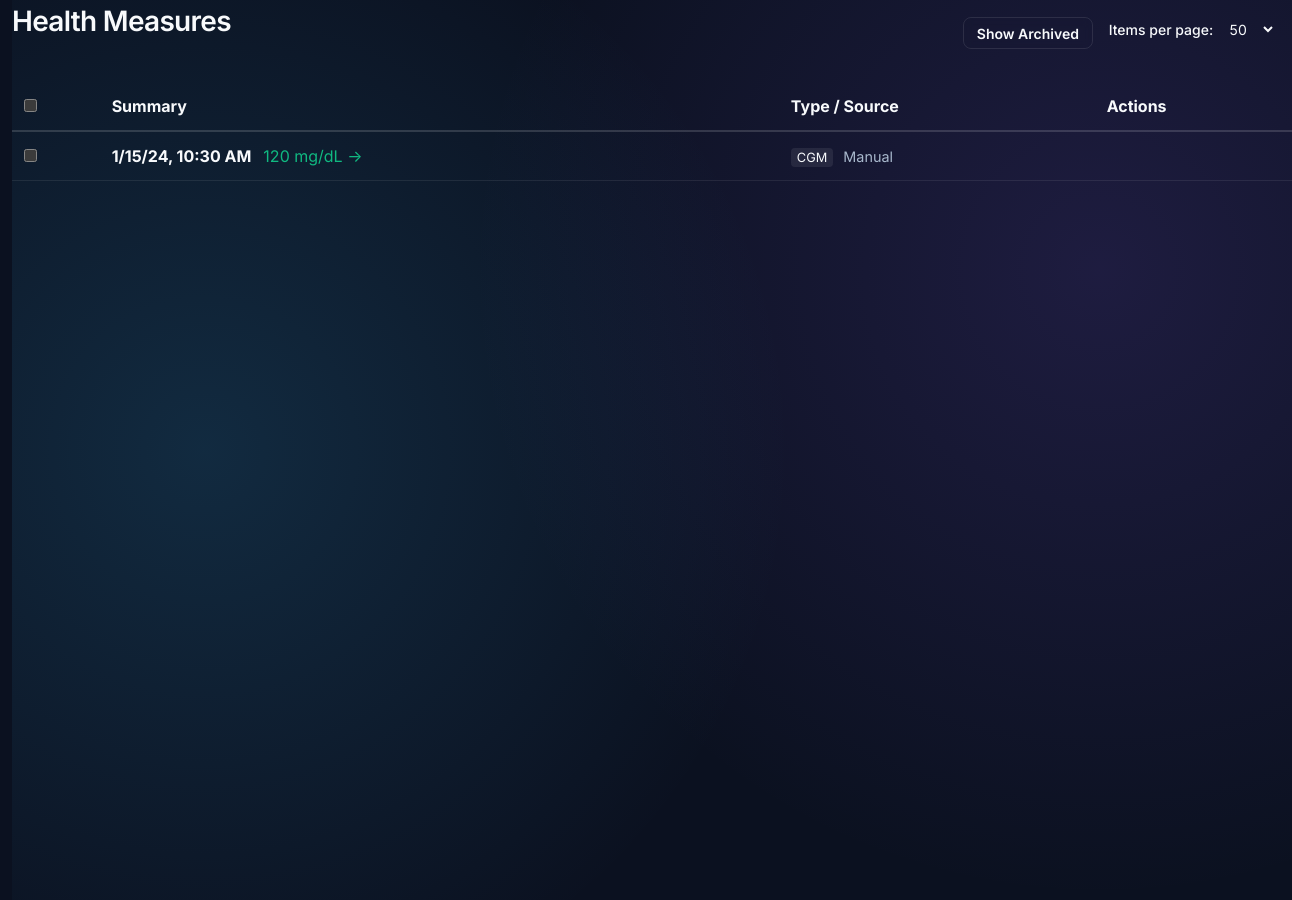
MeasureList › expands row details on row click
Expected: the text "CGM" is shown, [791, 148, 833, 167]
Step 1. Click the button "CGM" → (182, 156), box [12, 131, 1291, 180]
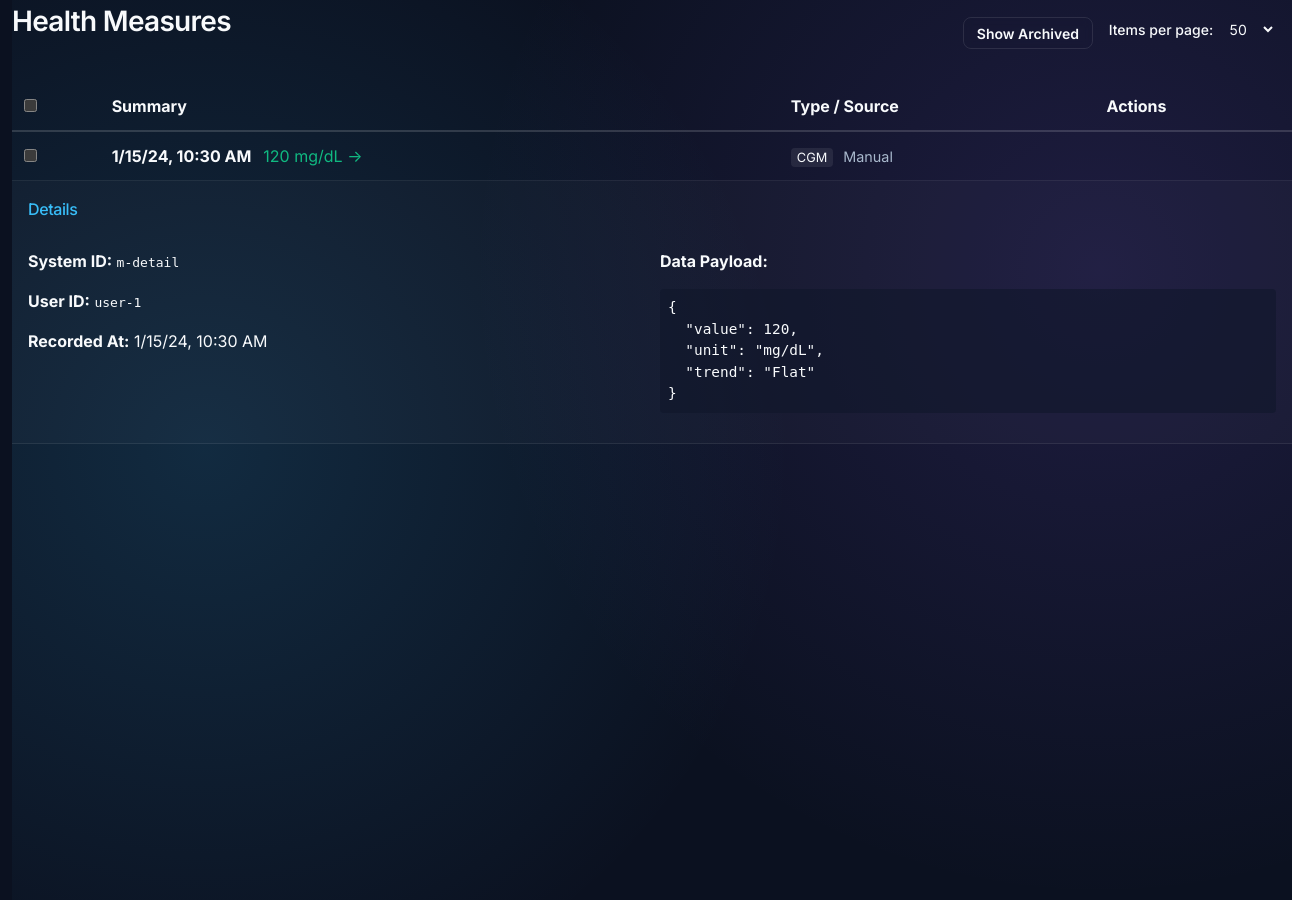
Expected: the text "System ID:" is shown, [28, 251, 112, 271]
